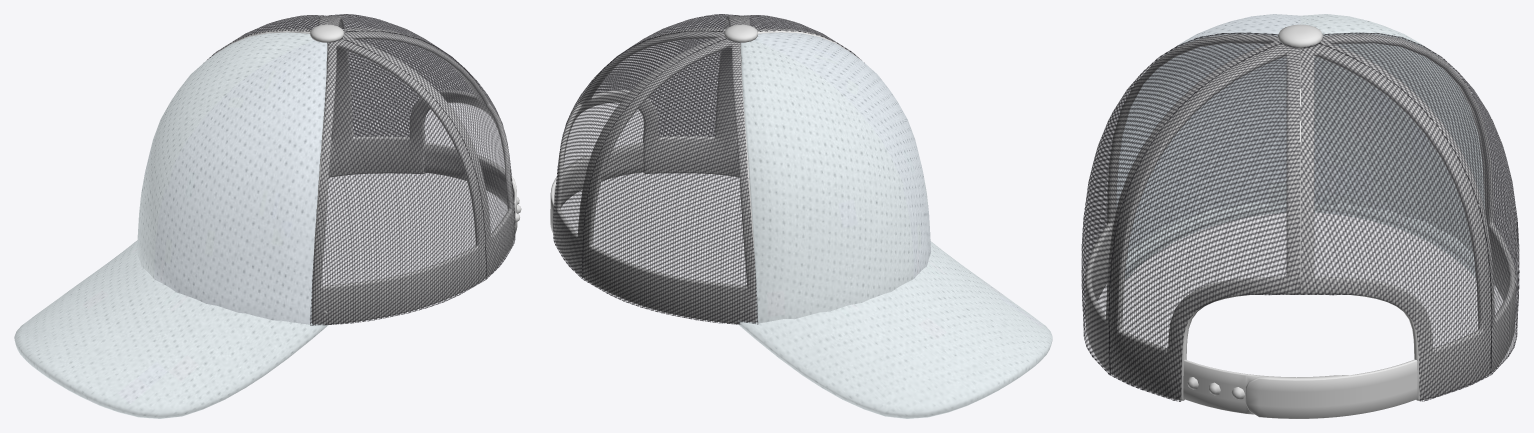
The model's file is 01_trucker.glb.
The picture shows the model from 3 angles, left to right: view 1: azimuth 30°, elevation 25°; view 2: azimuth 150°, elevation 25°; view 3: azimuth 270°, elevation 25°; orthographic projection. The views are drawn at different scales.
Parts seen in each view (by area): view 1: Cap_M05_low, frente, aba_baixo, corpo, Cap_M07_low, Cap_M06_low; view 2: Cap_M05_low, frente, aba_baixo, corpo, Cap_M07_low, Cap_M06_low; view 3: Cap_M05_low, frente, corpo, Cap_M07_low, aba_baixo, Cap_M06_low.
Boxes of the visible parts, left/top/right/bottom form: Cap_M05_low: left=207, top=14, right=515, bottom=325; frente: left=137, top=32, right=327, bottom=324; aba_baixo: left=14, top=240, right=328, bottom=418; corpo: left=219, top=16, right=514, bottom=324; Cap_M07_low: left=424, top=142, right=521, bottom=233; Cap_M06_low: left=310, top=24, right=343, bottom=42; Cap_M05_low: left=553, top=14, right=864, bottom=324; frente: left=741, top=32, right=930, bottom=323; aba_baixo: left=738, top=241, right=1052, bottom=418; corpo: left=554, top=16, right=847, bottom=324; Cap_M07_low: left=550, top=142, right=643, bottom=233; Cap_M06_low: left=724, top=24, right=757, bottom=42; Cap_M05_low: left=1081, top=32, right=1519, bottom=401; frente: left=1116, top=14, right=1484, bottom=252; corpo: left=1085, top=34, right=1515, bottom=400; Cap_M07_low: left=1183, top=359, right=1417, bottom=418; aba_baixo: left=1125, top=202, right=1494, bottom=285; Cap_M06_low: left=1278, top=24, right=1322, bottom=48.
Bounding box in the file's own units: 3.29 × 1.96 × 2.03.
7 materials, 4 textured.
